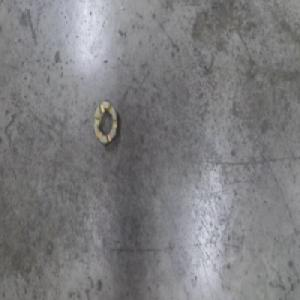Nut: (91, 98, 120, 148)
